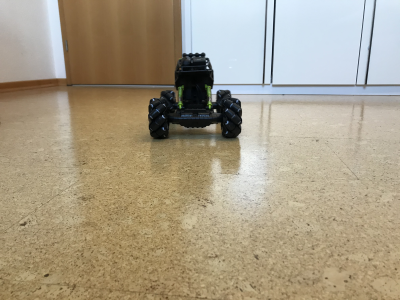remote control car: (144, 49, 246, 142)
